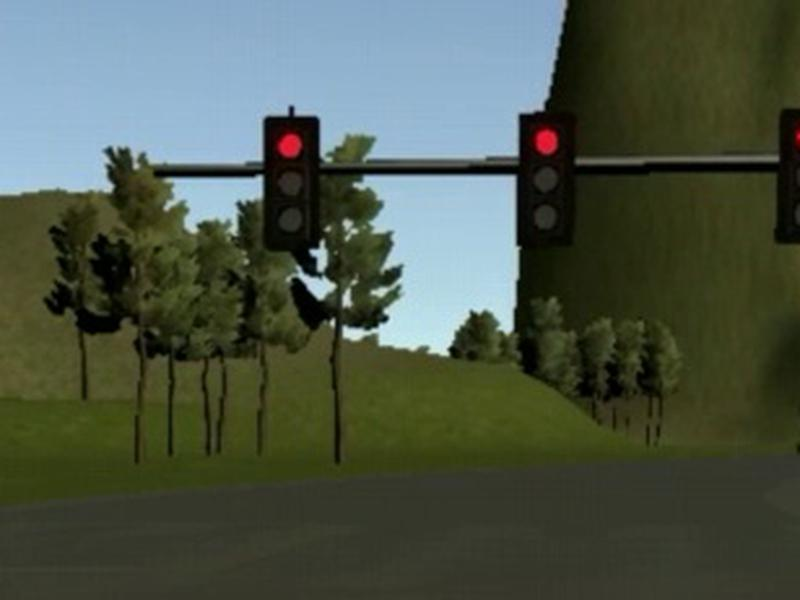Red: (517, 110, 575, 244), (263, 115, 319, 248), (773, 107, 799, 244)
